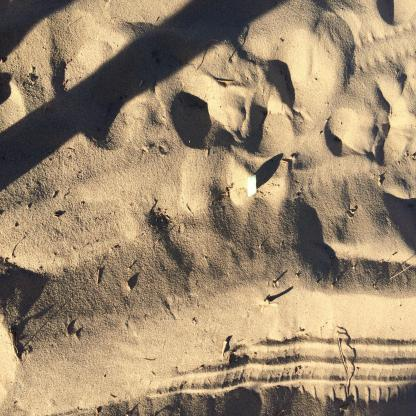diger: (246, 174, 258, 198)
